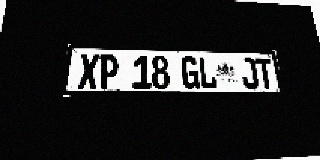1: (133, 55, 151, 89)
8: (151, 55, 170, 89)
G: (181, 56, 200, 89)
J: (240, 58, 259, 89)
L: (198, 57, 217, 89)
P: (98, 54, 119, 89)
T: (255, 58, 275, 89)
X: (77, 54, 99, 89)
